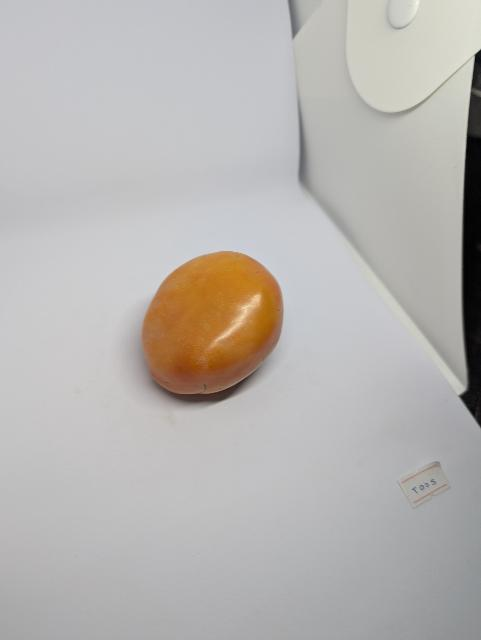turning: (138, 245, 287, 401)
